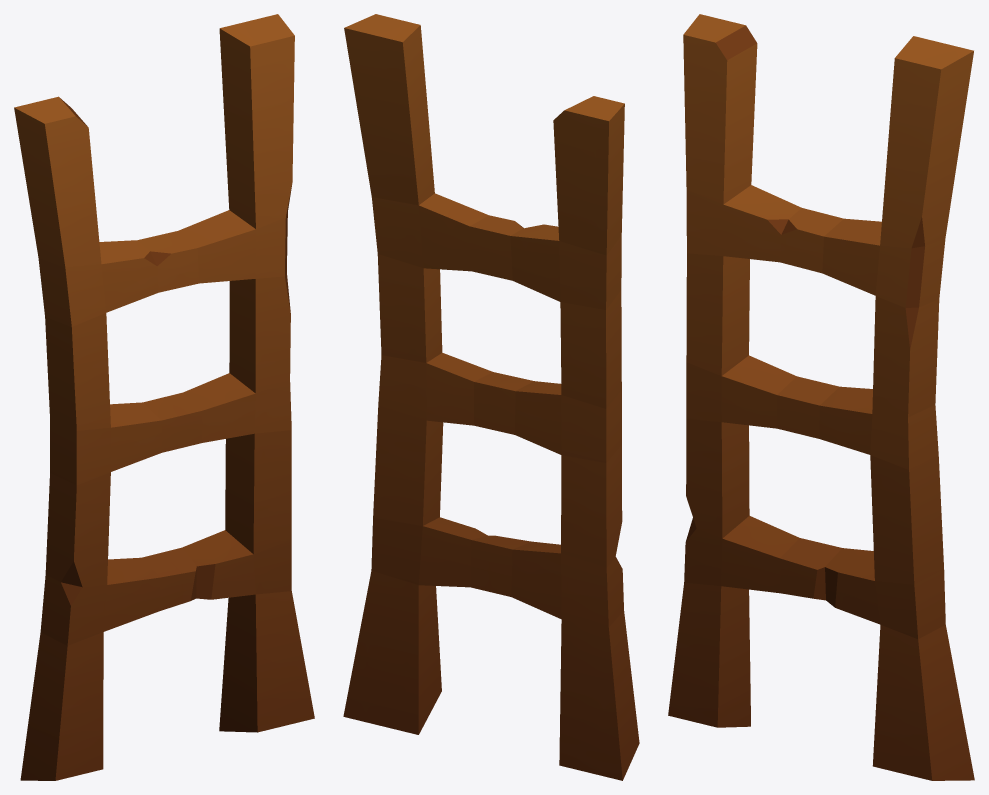
The model's file is Stylized Ladder.glb.
3 views of the same model, side by side, from view 1: azimuth 30°, elevation 25°; view 2: azimuth 150°, elevation 25°; view 3: azimuth 330°, elevation 25° (orthographic). The views are drawn at different scales.
Parts seen in each view (by area): view 1: Ladder; view 2: Ladder; view 3: Ladder.
Boxes of the visible parts, x1,y1,x2,y2 form: Ladder: (14,14,314,780); Ladder: (343,14,639,780); Ladder: (668,14,974,780).
Size of the model in its own units: 1.95 by 4.69 by 0.4723.
1 material, 1 textured.
